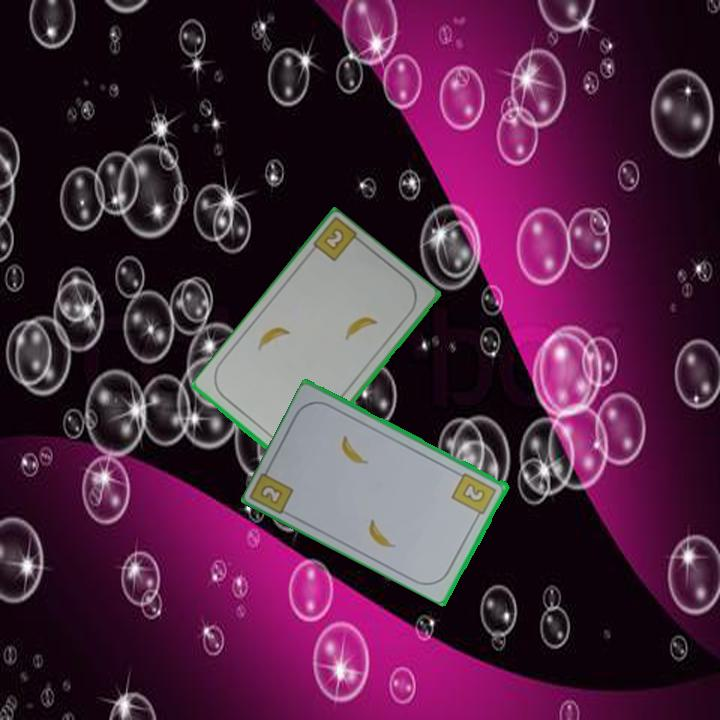2b: (449, 469, 500, 522), (320, 225, 348, 254), (259, 483, 283, 505)
